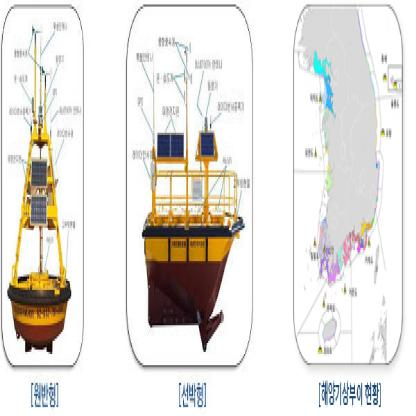buoy: (6, 22, 74, 361)
